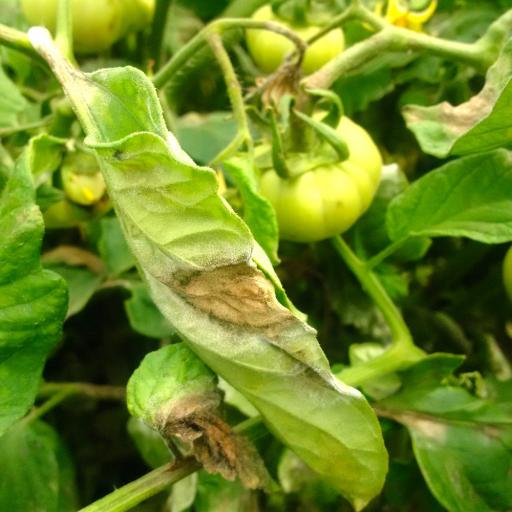Healthy: (385, 146, 512, 262)
Late Blight: (65, 63, 390, 512), (118, 342, 283, 496)
